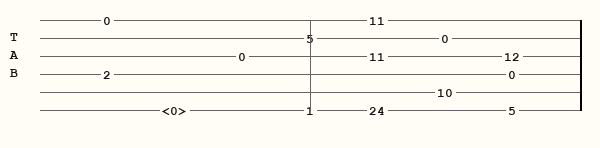0: (103, 14, 115, 26), (238, 50, 250, 62), (441, 32, 453, 44), (508, 68, 520, 80)
1: (306, 104, 318, 116)
10: (437, 86, 457, 98)
11: (369, 50, 389, 62), (369, 14, 389, 26)
12: (504, 50, 524, 62)
2: (103, 68, 115, 80)
24: (369, 104, 389, 116)
5: (306, 32, 318, 44), (508, 104, 520, 116)
harmonic: (162, 104, 191, 116)
